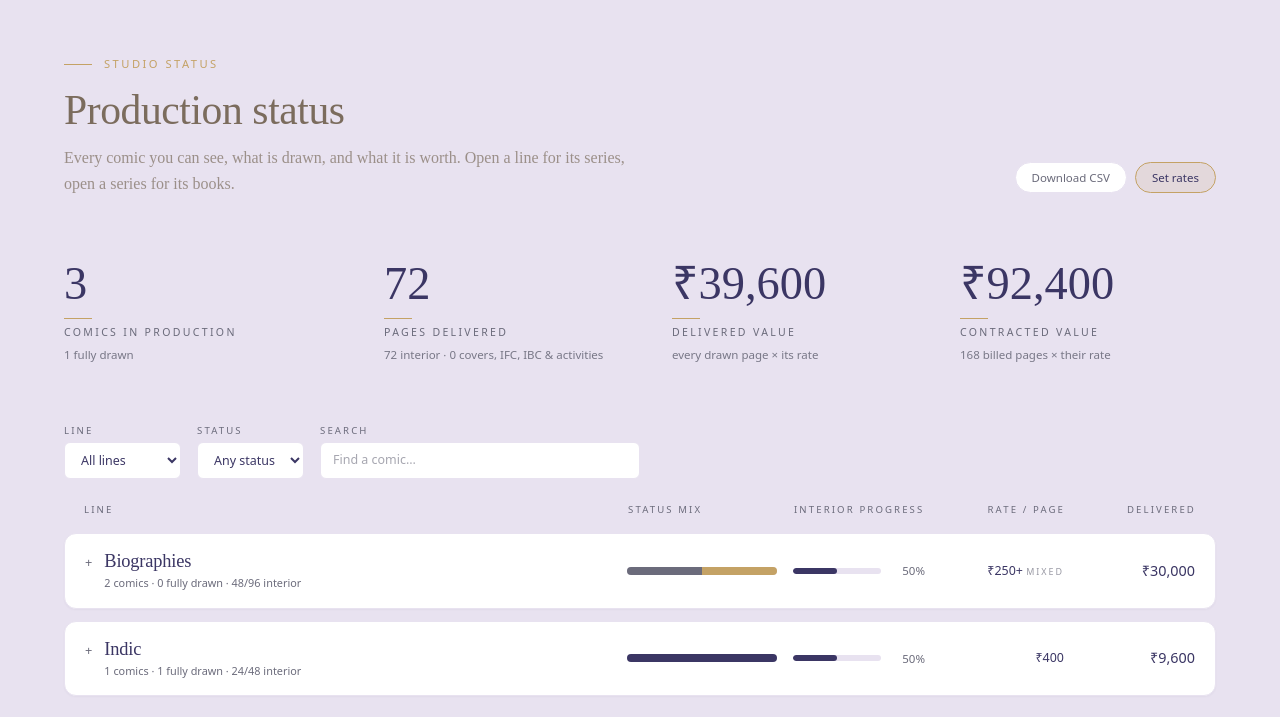
Test: ProductionDashboard › searches by title
This screenshot has width=1280, height=717.
Type "little master" into the field named "Find a comic" at {"x": 480, "y": 461}, box [320,442,640,479]
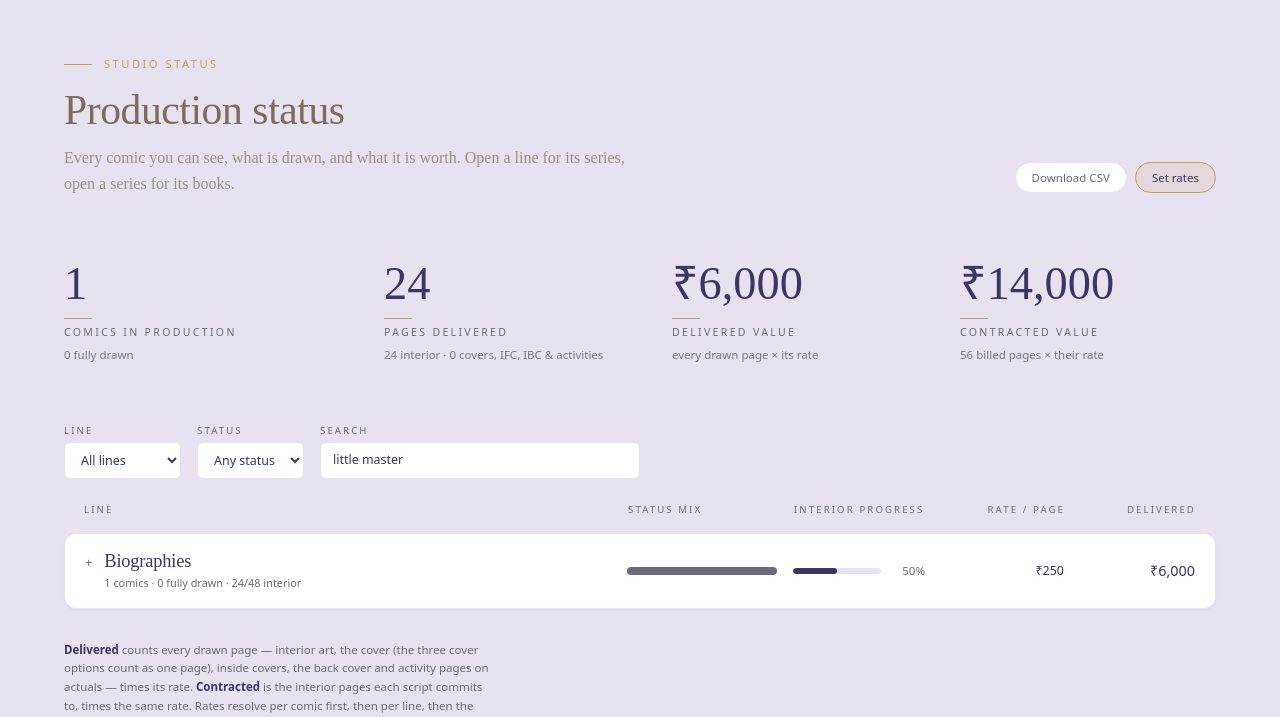
Expected: the heading "Biographies" is shown, [104,551,191,571]
Now the button "Indic" is gone
